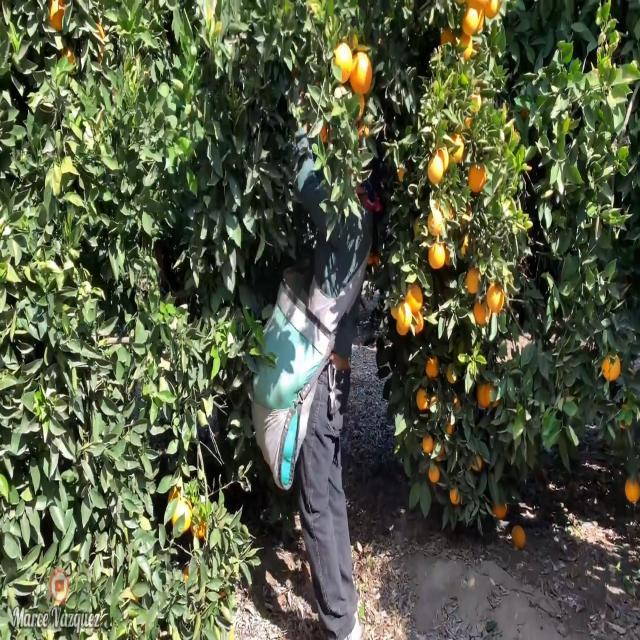Jeruk Sudah Matang: (166, 486, 194, 532), (330, 41, 353, 86), (598, 350, 622, 390), (45, 0, 73, 33), (352, 52, 372, 95), (394, 298, 412, 333), (457, 30, 474, 64), (474, 380, 492, 412), (624, 472, 640, 505), (404, 284, 424, 310), (462, 6, 480, 34), (426, 210, 446, 235), (466, 262, 482, 292), (428, 241, 445, 269), (490, 284, 504, 316), (474, 298, 489, 325), (440, 24, 454, 52), (470, 447, 484, 475), (421, 431, 435, 456), (426, 353, 440, 376), (416, 386, 430, 409), (444, 361, 458, 384), (493, 500, 508, 520), (449, 485, 461, 505), (429, 462, 439, 482)
